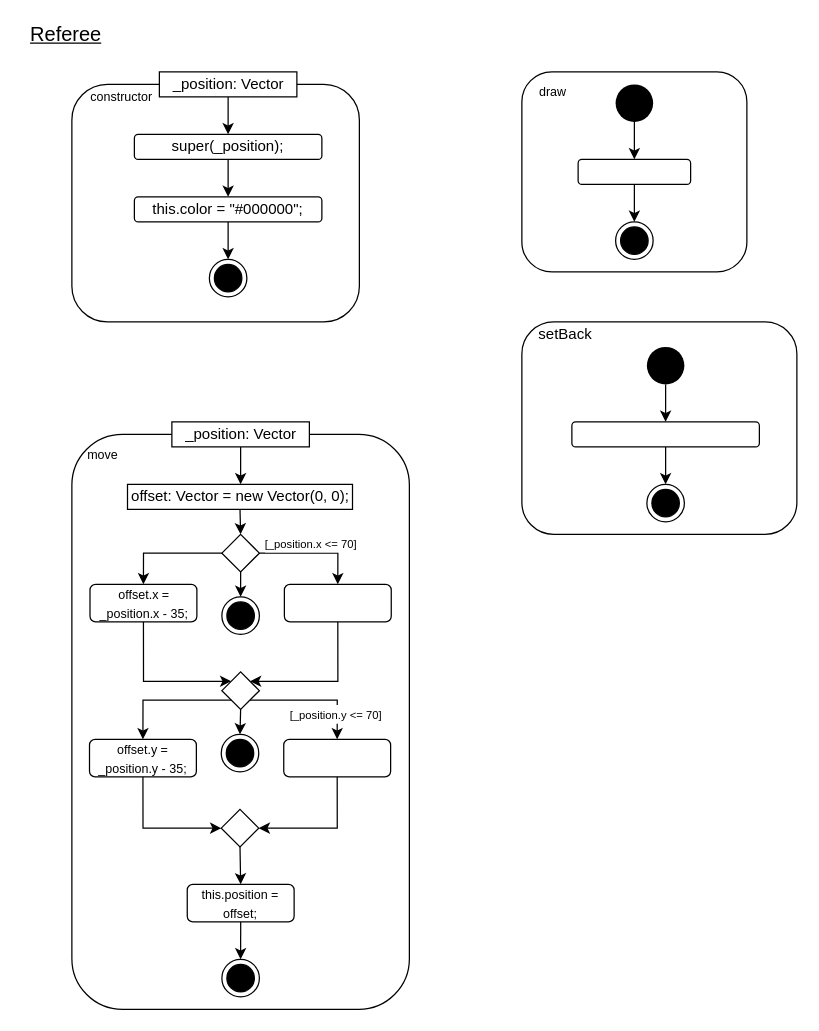
This 819x1031 diagram has some shape labels left out. Each missing label, with the box of its shape:
offset.x = _position.x + 35;: (283, 583, 391, 622)
offset.y = _position.y + 35;: (282, 738, 391, 777)
super.draw();: (577, 158, 691, 184)
super.setBack();: (571, 421, 759, 447)
